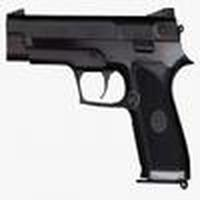gun: (5, 4, 197, 196)
